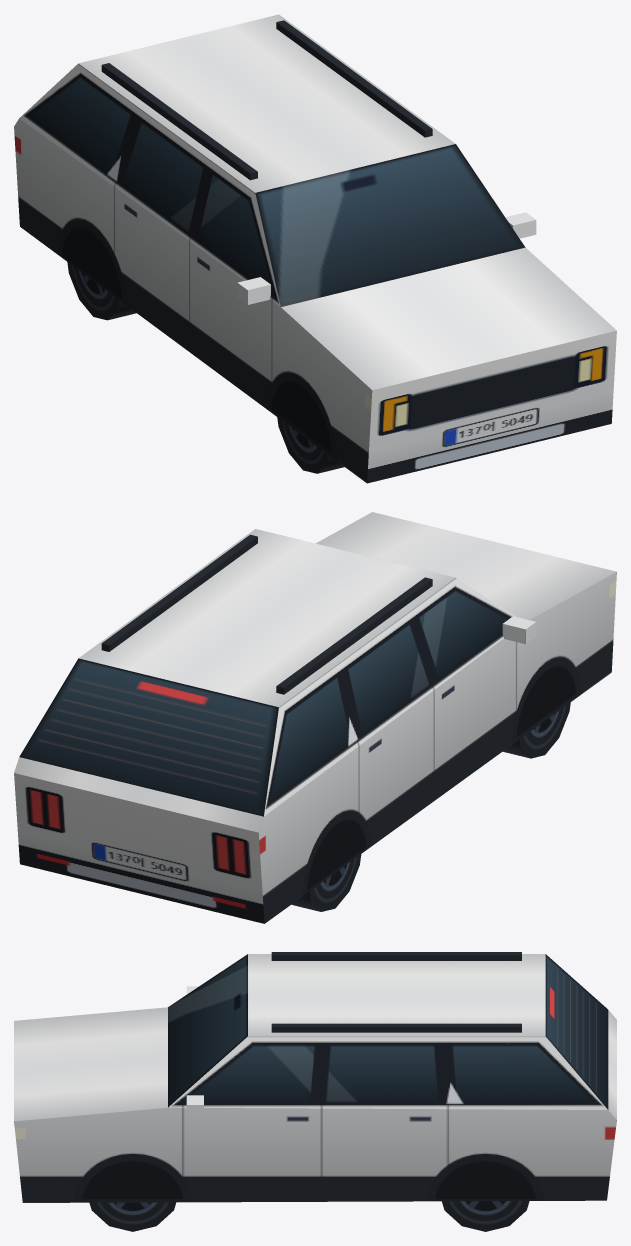
File: car_sorento.glb
3 views of the same model, one above another, from view 1: azimuth 30°, elevation 25°; view 2: azimuth 150°, elevation 25°; view 3: azimuth 270°, elevation 25° (orthographic). The views are drawn at different scales.
Parts seen in each view (by area): view 1: KoreanCar_Sorento; view 2: KoreanCar_Sorento; view 3: KoreanCar_Sorento.
Boxes of the visible parts, left/top/right/bottom form: KoreanCar_Sorento: left=14, top=14, right=616, bottom=483; KoreanCar_Sorento: left=14, top=512, right=616, bottom=923; KoreanCar_Sorento: left=14, top=952, right=616, bottom=1231.
Bounding box in the file's own units: 2.24 × 1.7 × 4.82.
1 material, 1 textured.
